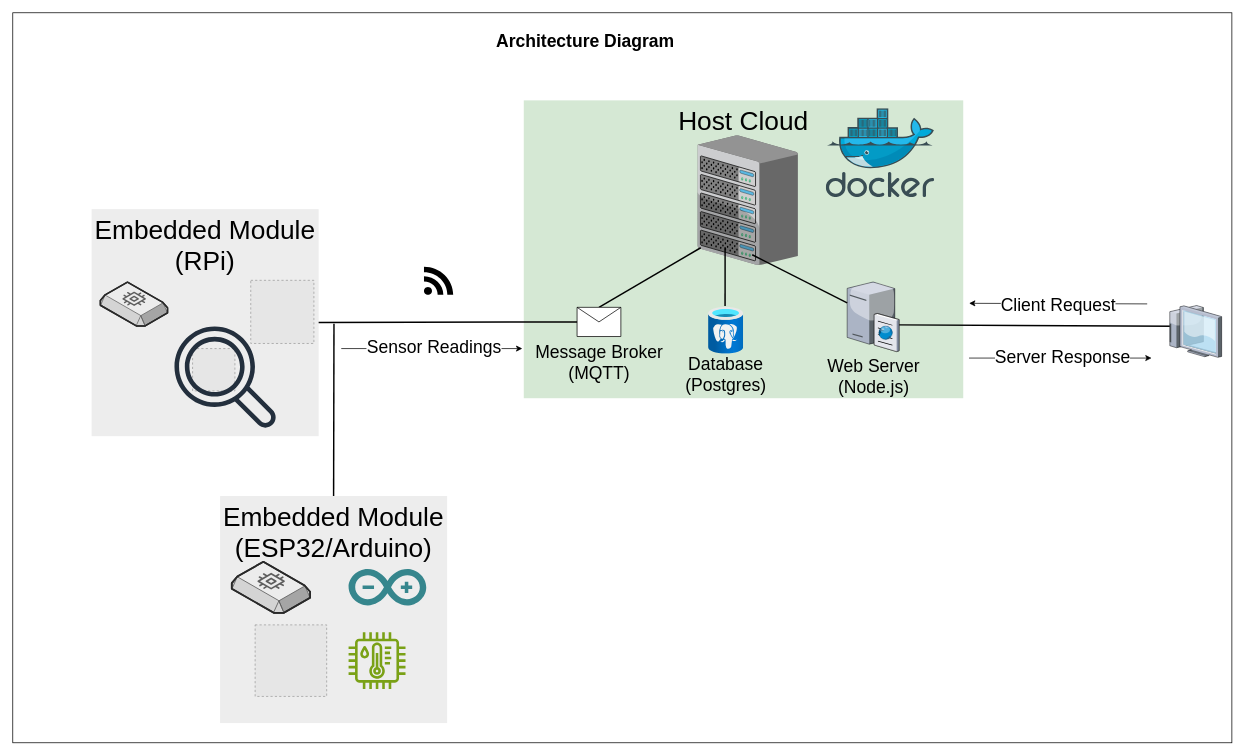
This 1245x756 diagram has some shape labels left out. Grey dashed boxes stand in for pictures. The centre of each missing label's shape, as x and y in pixels:
"Client" belongs at pixel 1194 331.
"WiFi" belongs at pixel 438 280.
